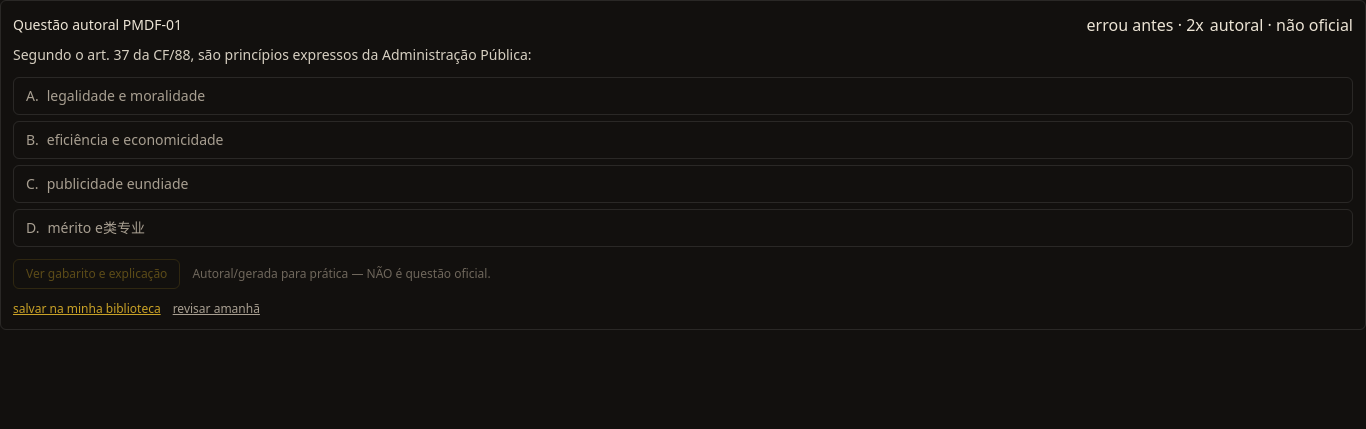
it: CatalogQuestion › avisa da tentativa anterior (errou antes) e permite responder de novo
Check: the text "errou antes · 2x" is shown, box [1086,13,1204,37]
Click the button "A.legalidade e moralidade". click: (126, 96)
box: [13,77,1353,115]
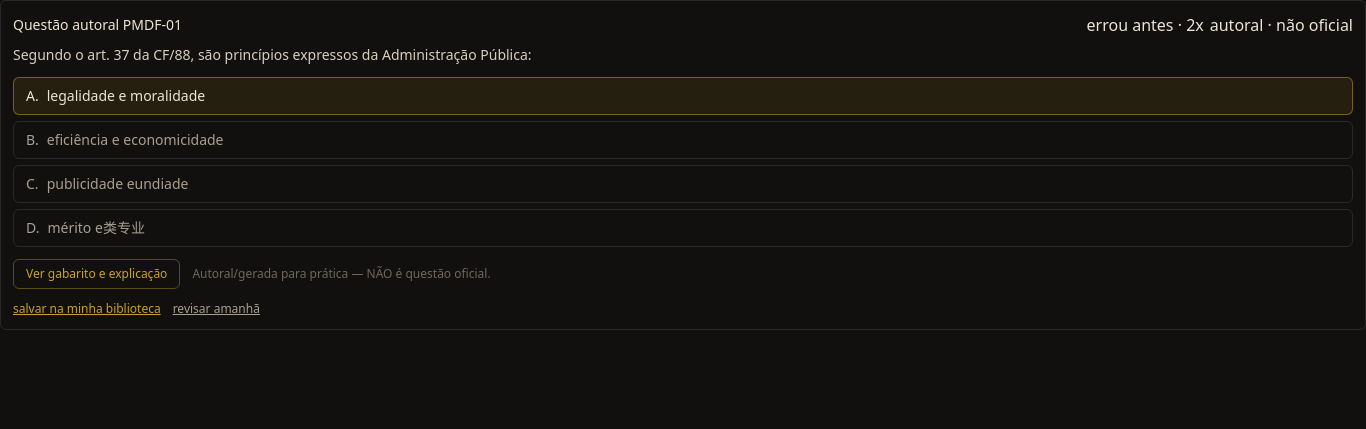
Click the button "Ver gabarito e explicação". click: (97, 274)
box: [13,259,180,289]
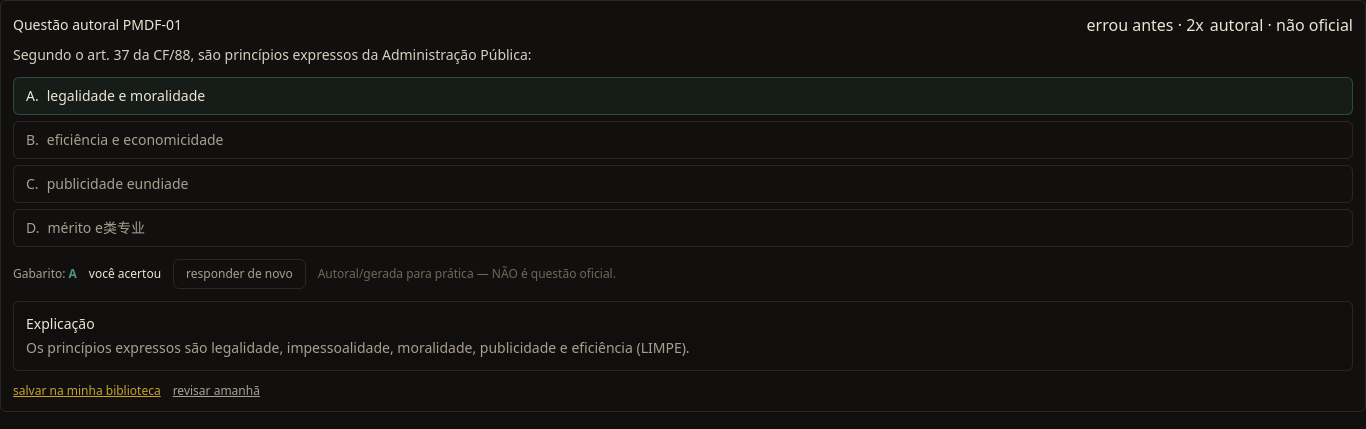
Check: the text "você acertou" is shown, box [89,266,161,282]
Click the button "responder de novo". click: (239, 274)
box: [173,259,306,289]
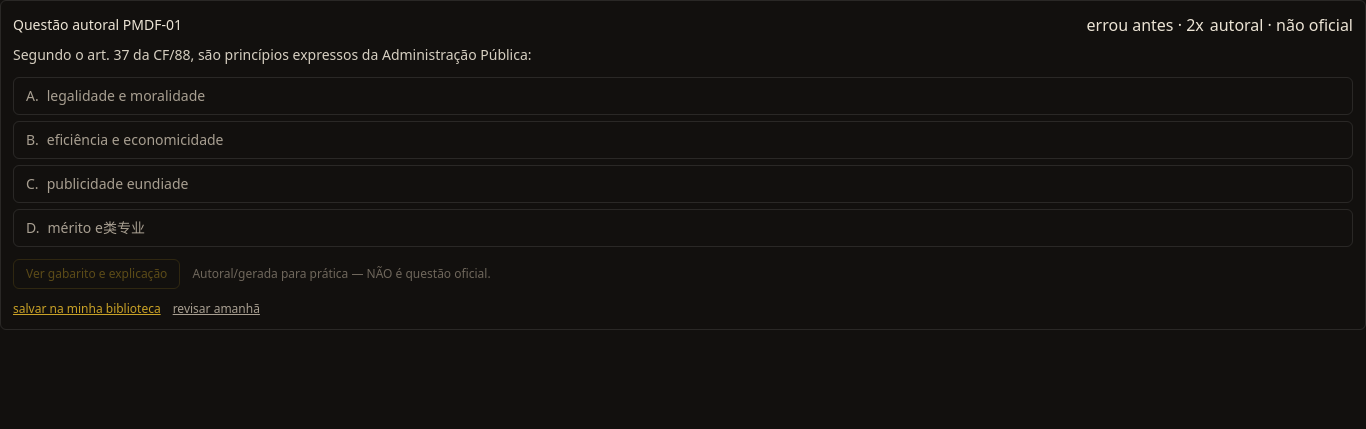
Check: the button "Ver gabarito e explicação" is disabled, box [13,259,180,289]
Check: the text "Os princípios expressos são legalidade, impessoalidade, moralidade, publicidade e eficiência (LIMPE)." is gone
